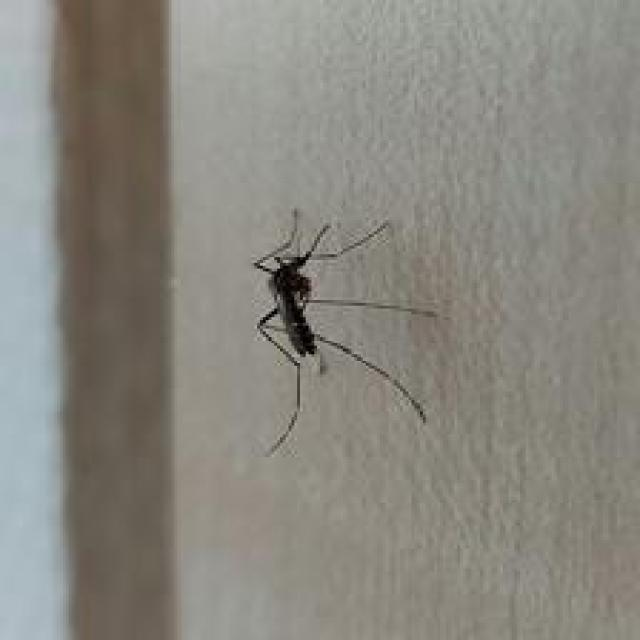Aedes albopictus: (249, 207, 440, 459)
